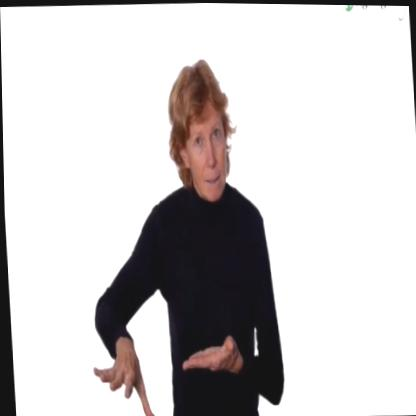Expensive: (94, 320, 244, 416)
